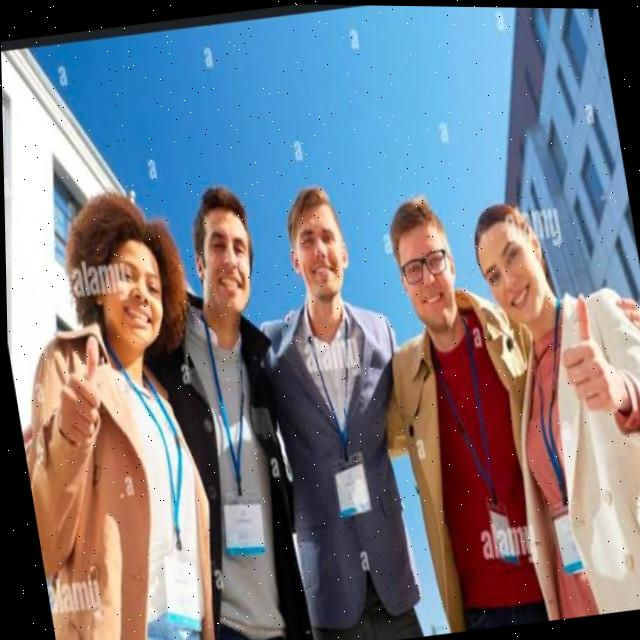id_card: (421, 334, 536, 570), (187, 313, 275, 568), (298, 307, 387, 542)
